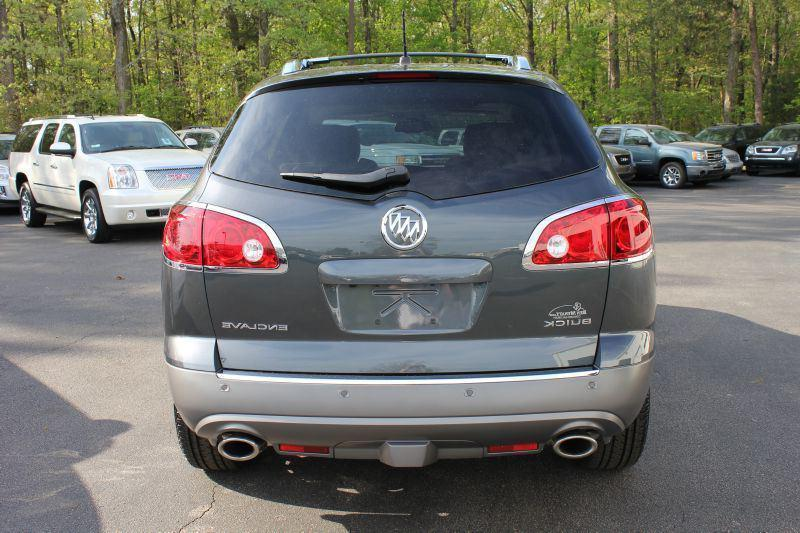Car: (156, 19, 680, 523), (2, 99, 216, 252), (569, 94, 759, 211)
